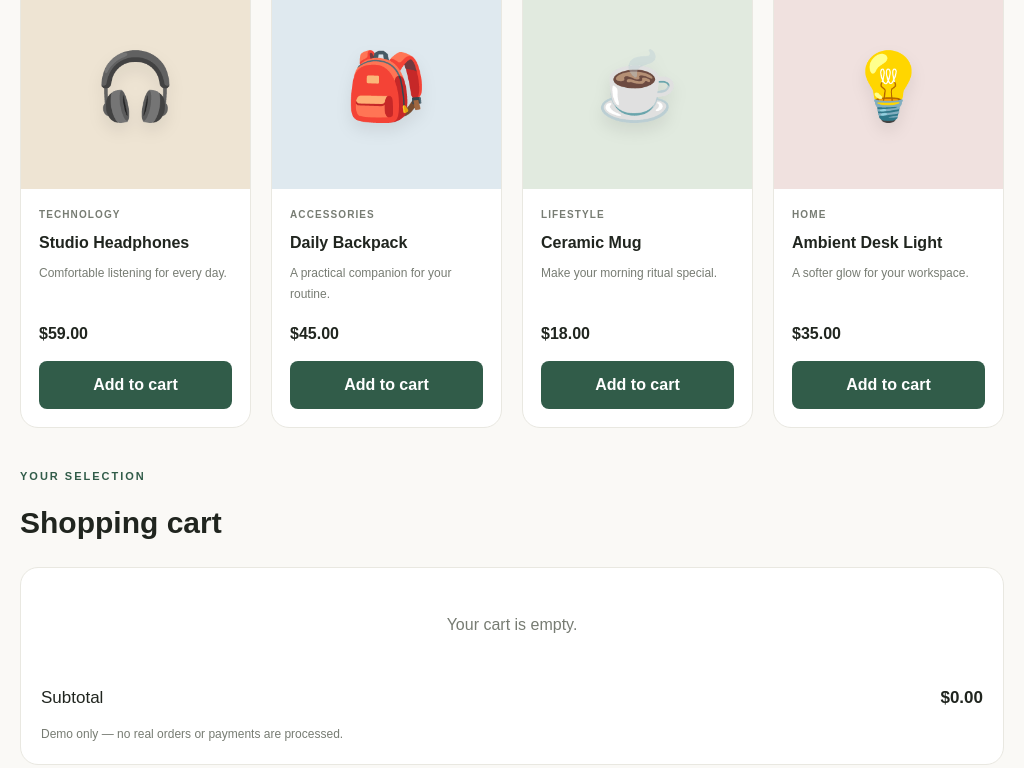
Test: ShopFlow React storefront › changes quantity and removes an item
The width and height of the screenshot is (1024, 768).
(page scrolled)
Check: the heading "Studio Headphones" is shown, box 39,234 -> 189,251
Click the button "Add to cart" below "$59.00" at (136, 385), box 39,361 -> 232,409
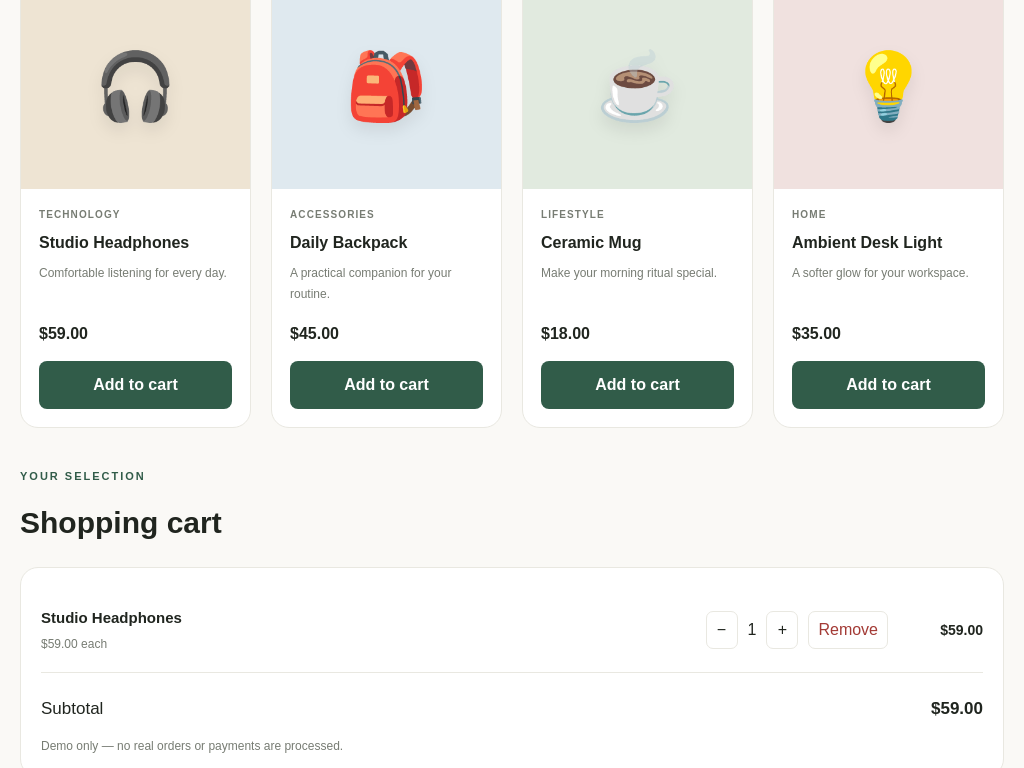
Click the button named "Increase Studio Headphones quantity" at (782, 630), box 766,612 -> 798,649
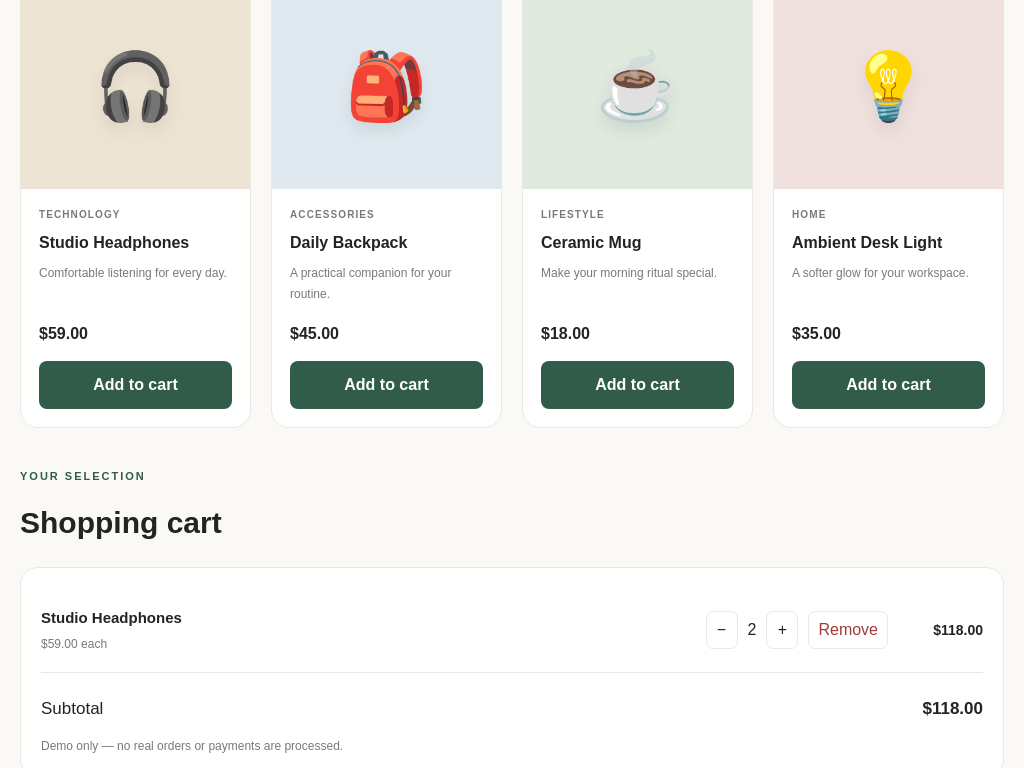
Check: the text "2" is shown, box 748,618 -> 756,643
Click the button named "Decrease Studio Headphones quantity" at (722, 630), box 706,612 -> 738,649
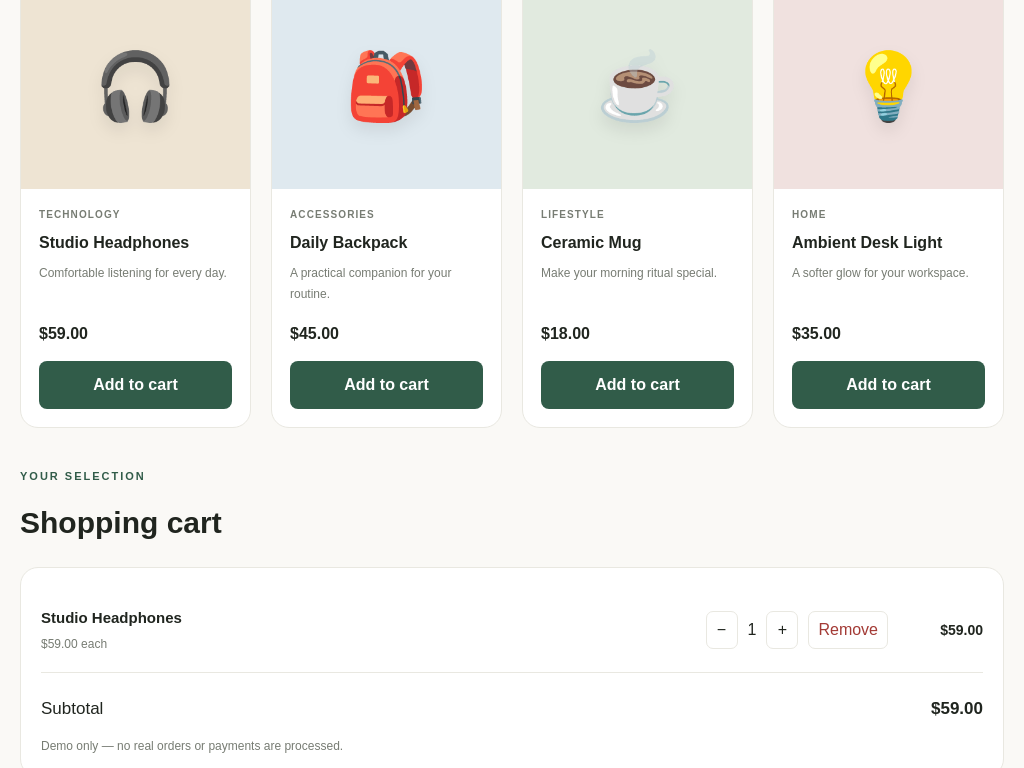
Check: the text "1" is shown, box 748,618 -> 756,643
Click the button "Remove" at (848, 630), box 808,612 -> 888,649
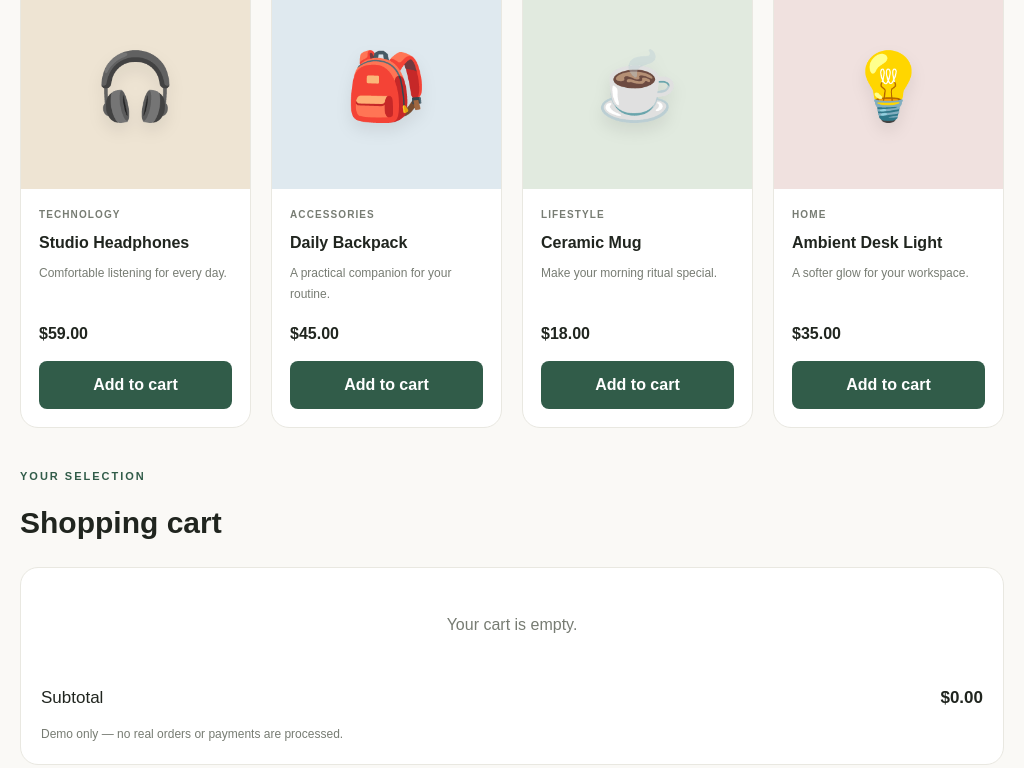
Check: the list item "Your cart is empty." is shown, box 447,616 -> 577,633
